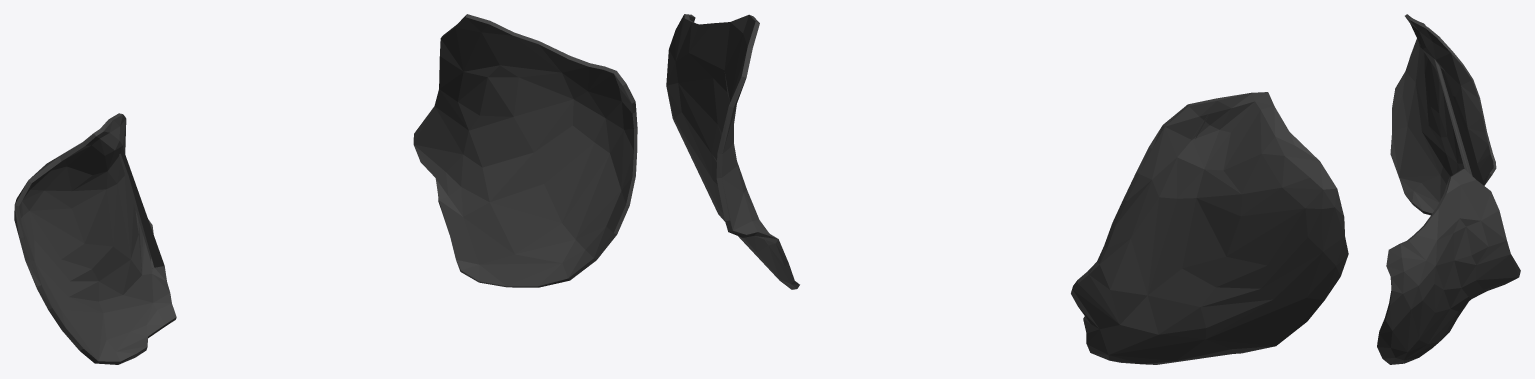
The model's file is c6_caudal_articular_surface.glb.
3 renders of one model, left to right at view 1: azimuth 30°, elevation 25°; view 2: azimuth 150°, elevation 25°; view 3: azimuth 270°, elevation 25°, orthographic. The views are drawn at different scales.
Visible parts, largest first — view 1: c6_caudal_articular_surface; view 2: c6_caudal_articular_surface; view 3: c6_caudal_articular_surface.
Boxes of the visible parts, x1=… form: c6_caudal_articular_surface: x1=14, y1=14, x2=637, y2=364; c6_caudal_articular_surface: x1=666, y1=14, x2=1348, y2=364; c6_caudal_articular_surface: x1=1377, y1=14, x2=1520, y2=364.
Size of the model in its own units: 33.84 by 14.08 by 9.52.
1 material, 1 textured.
